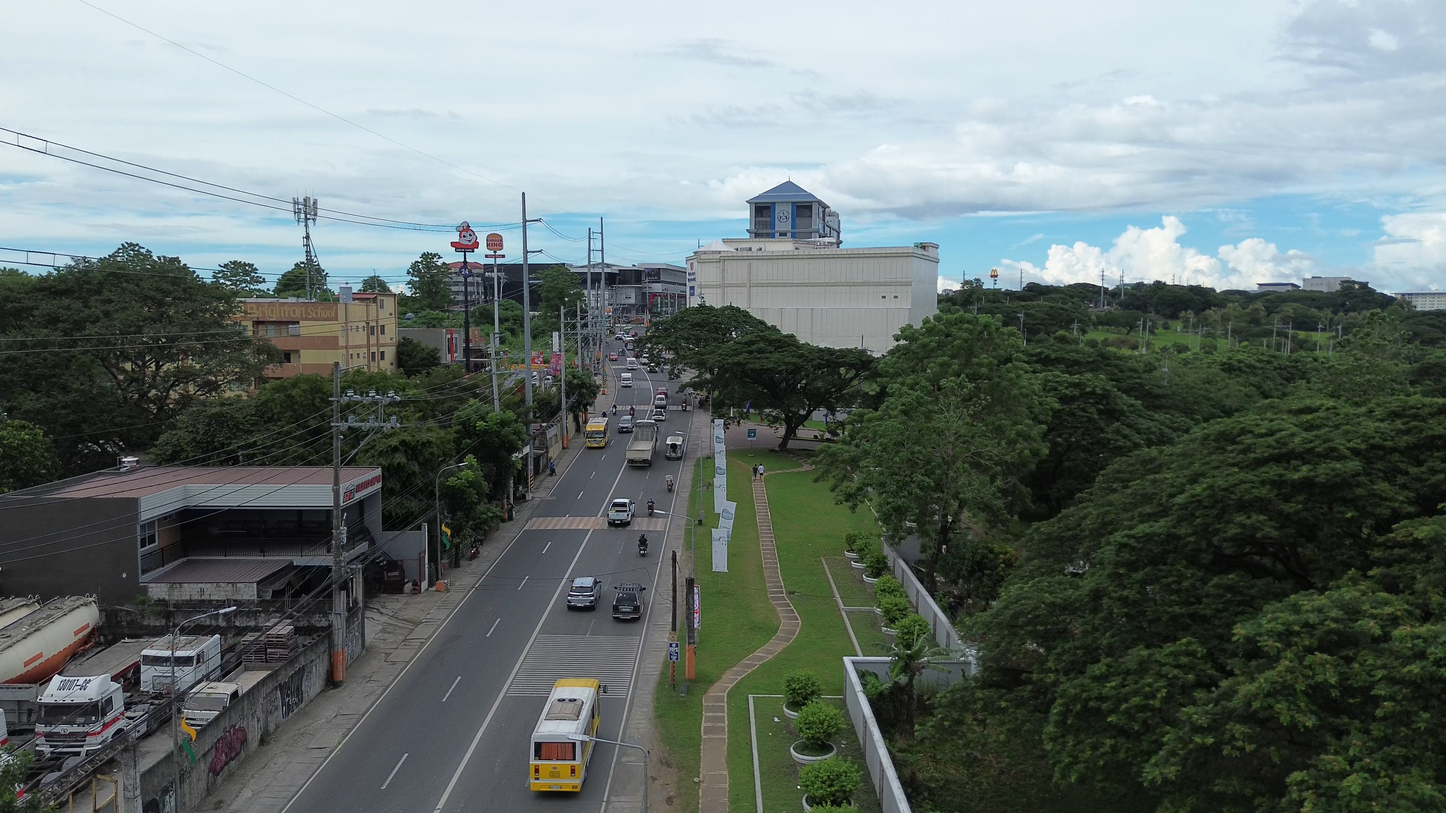bus: (585, 418, 608, 448)
car: (653, 393, 667, 408)
motorcycle: (638, 535, 648, 556), (468, 544, 479, 560), (666, 475, 674, 492), (647, 499, 654, 517)
vehicle: (0, 596, 99, 684), (529, 678, 601, 791), (35, 674, 127, 757), (141, 635, 221, 693), (183, 682, 239, 728), (625, 420, 658, 465), (612, 583, 646, 619), (566, 577, 601, 609), (607, 498, 635, 526), (665, 435, 684, 459), (617, 415, 633, 433), (653, 393, 668, 409), (651, 408, 666, 422), (620, 372, 633, 388), (655, 387, 669, 398), (626, 358, 638, 370), (624, 341, 634, 351), (609, 352, 618, 361)
